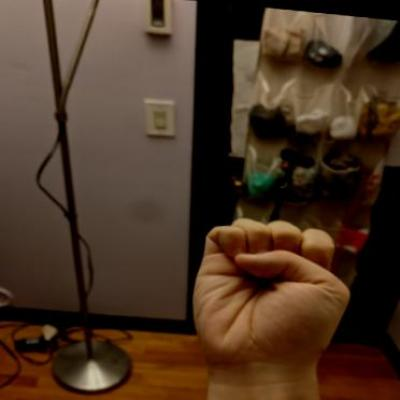hand: (178, 206, 362, 386)
